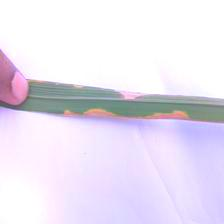2 BacterialBlight: (48, 89, 206, 132)
